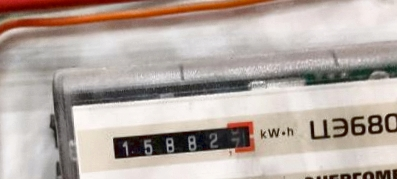1: (119, 137, 130, 156)
2: (207, 130, 219, 148)
5: (141, 137, 153, 155)
7: (229, 135, 241, 147)
8: (185, 132, 197, 151), (162, 135, 175, 152)
screen: (103, 116, 261, 167)
